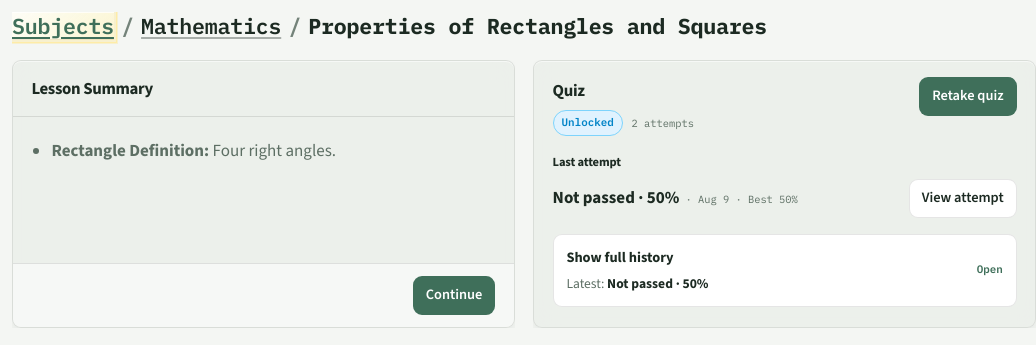
Test: LessonPage › offers start quiz on the last slide
Expected: the heading "Lesson Summary" is shown, [31, 77, 153, 99]
Click the link "Continue".
click(454, 295)  # box [413, 276, 495, 314]
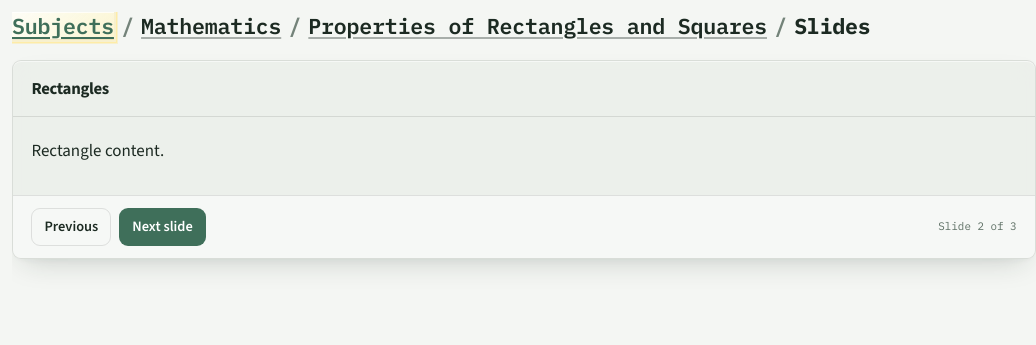
Expected: the button "Next slide" is shown
Click the button "Next slide".
click(163, 227)  # box [119, 208, 206, 246]
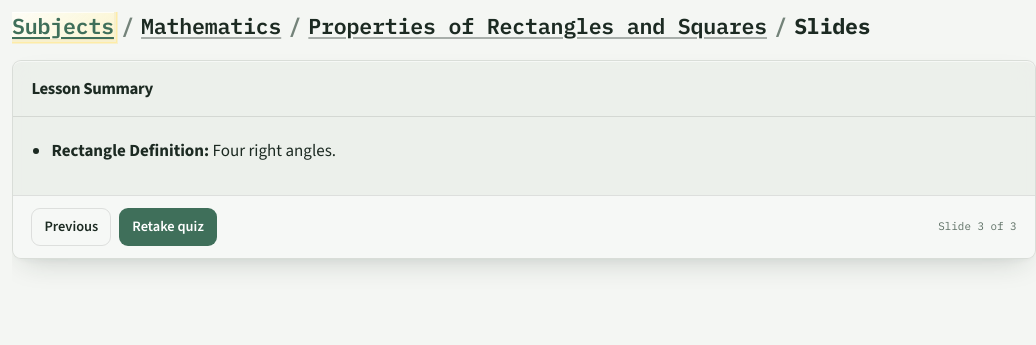
Expected: the heading "Lesson Summary" is shown, [31, 77, 153, 99]
Expected: the button "Next slide" is gone
